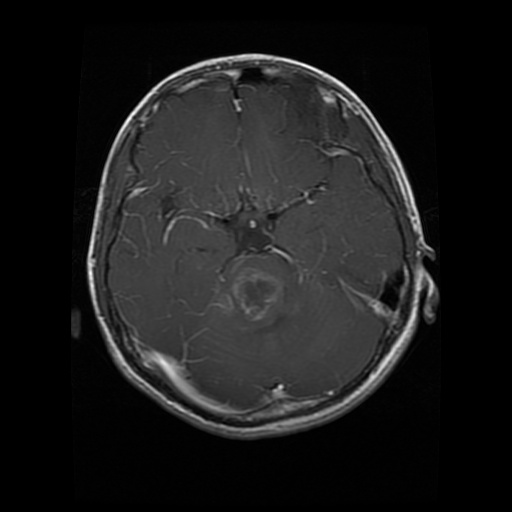glioma: (217, 260, 296, 326)
